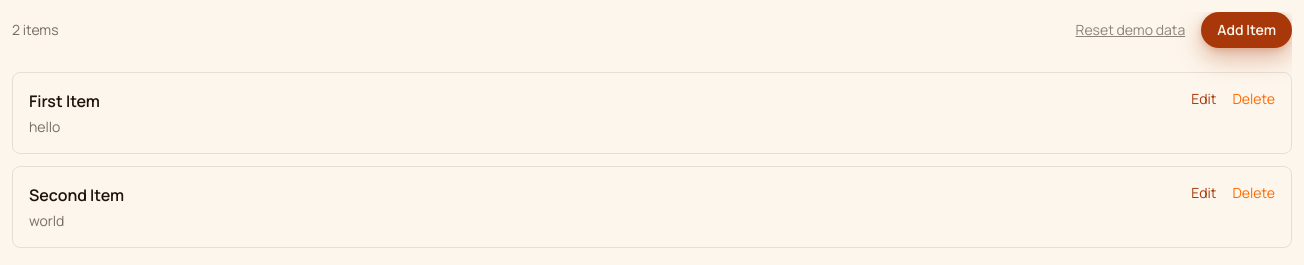
ResourceManager › deletes an item
Click the button "Delete" in the row of "First Item": click(1254, 99) top-left (1232, 89), bottom-right (1275, 109)
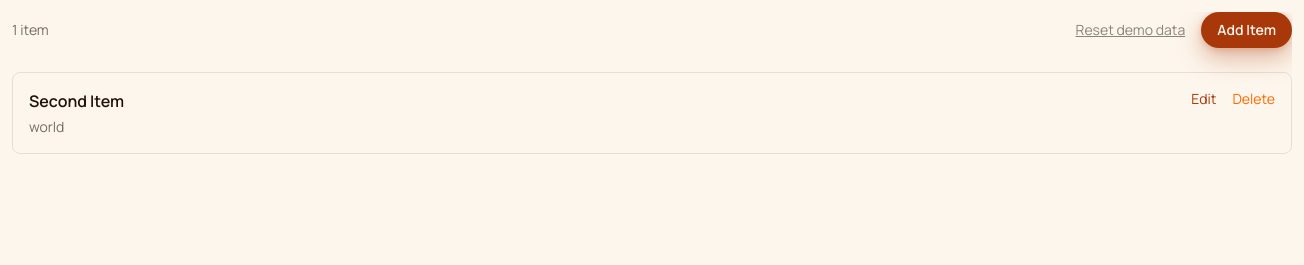
Expected: the text "First Item" is gone
Expected: the text "1 item" is shown, top-left (12, 20), bottom-right (49, 40)
